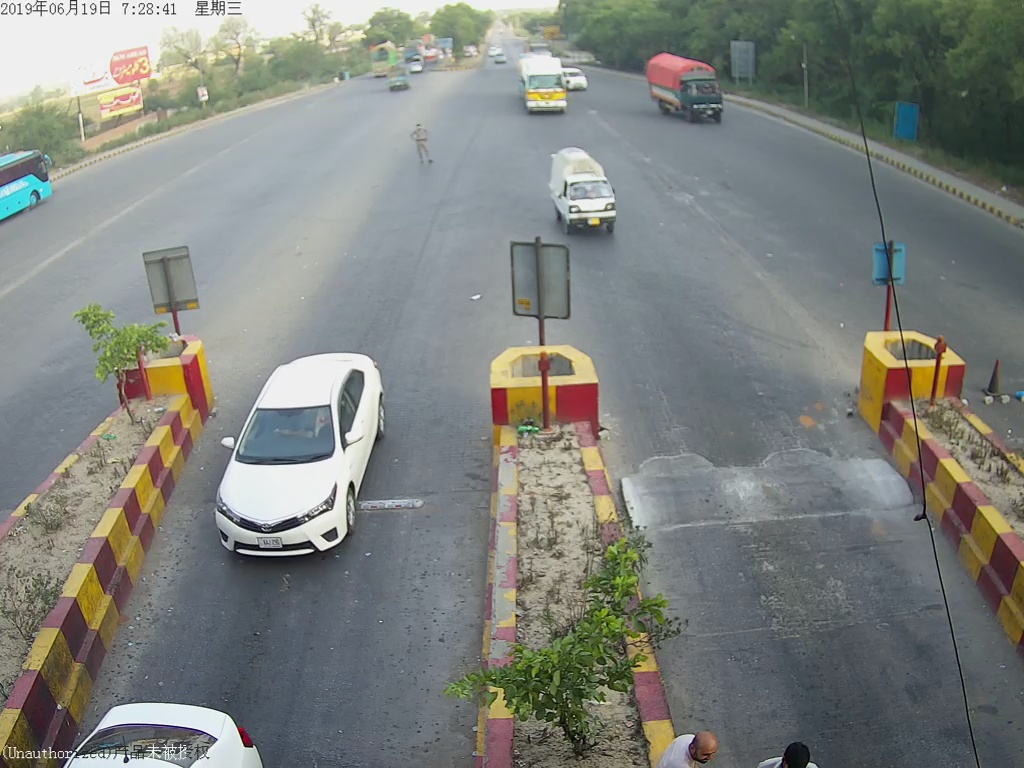Cat-1: (209, 347, 390, 557), (546, 153, 626, 238)
